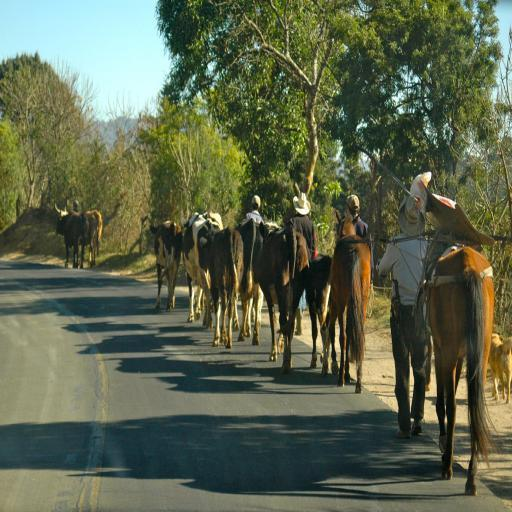horse: (424, 246, 506, 496), (327, 208, 371, 394)
